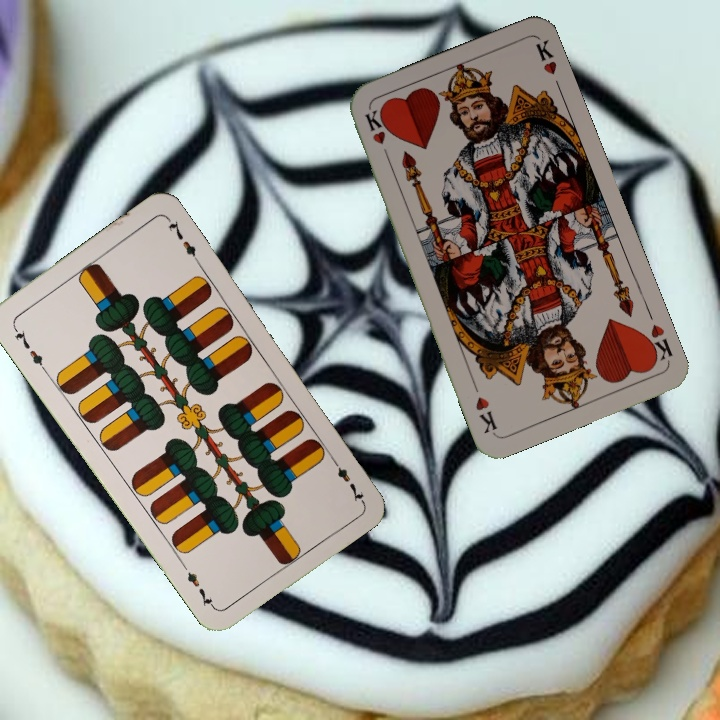E7: (326, 452, 366, 505), (9, 322, 49, 374)
HK: (360, 105, 393, 164), (639, 320, 675, 367)
